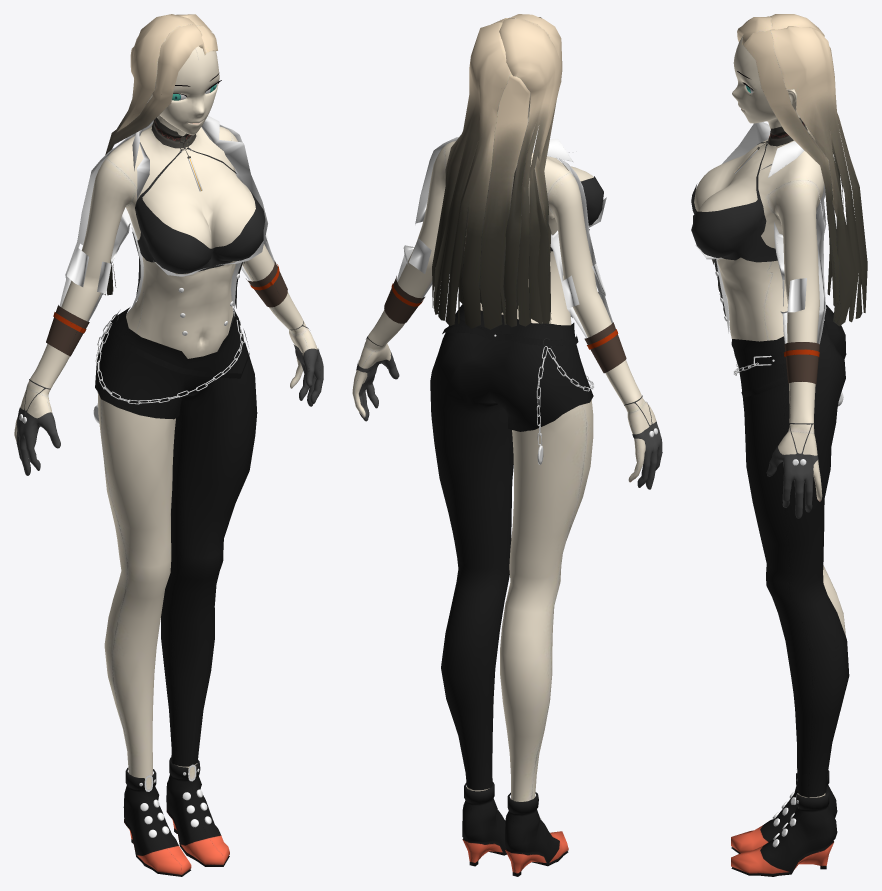
Rendered from harpy.glb.
3 views of the same model, side by side, from view 1: azimuth 30°, elevation 25°; view 2: azimuth 150°, elevation 25°; view 3: azimuth 270°, elevation 25° (orthographic).
Parts seen in each view (by area): view 1: RBody, Lower_Cloth, Upper_Cloth, RShoes, RHair, Inner; view 2: Lower_Cloth, RBody, RHair, Upper_Cloth, RShoes, Inner; view 3: Lower_Cloth, RBody, RHair, Upper_Cloth, RShoes, Inner.
Part boxes in pixels (x1,y1,x2,y2): RBody: (14, 25, 317, 789); Lower_Cloth: (93, 307, 257, 766); Upper_Cloth: (16, 115, 323, 475); RShoes: (123, 757, 229, 876); RHair: (104, 14, 217, 295); Inner: (135, 117, 265, 331); Lower_Cloth: (430, 304, 594, 790); RBody: (352, 20, 656, 801); RHair: (432, 14, 562, 329); Upper_Cloth: (356, 137, 662, 489); RShoes: (462, 782, 568, 876); Inner: (550, 164, 603, 251); Lower_Cloth: (731, 305, 849, 797); RBody: (694, 35, 845, 797); RHair: (737, 14, 867, 326); Upper_Cloth: (695, 122, 826, 518); RShoes: (731, 770, 837, 876); Inner: (691, 117, 807, 262).
Bounding box in the file's own units: 336 × 896 × 170.
15 materials, 15 textured.
